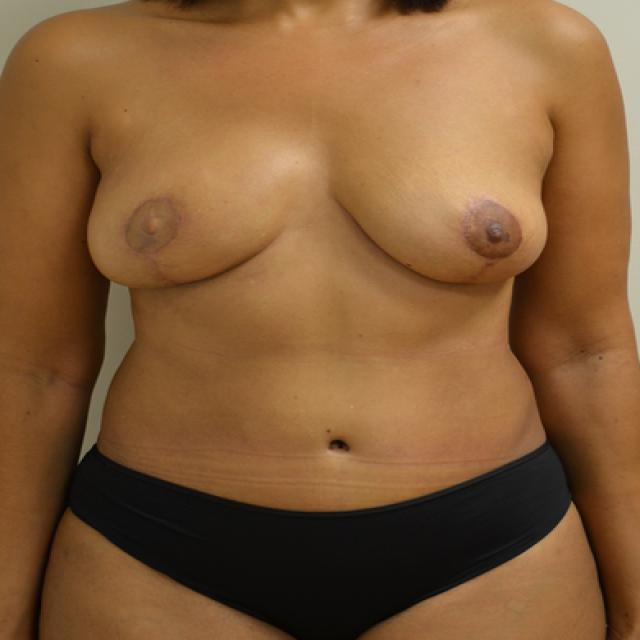Seno herido: (322, 112, 554, 301), (81, 113, 301, 304)
